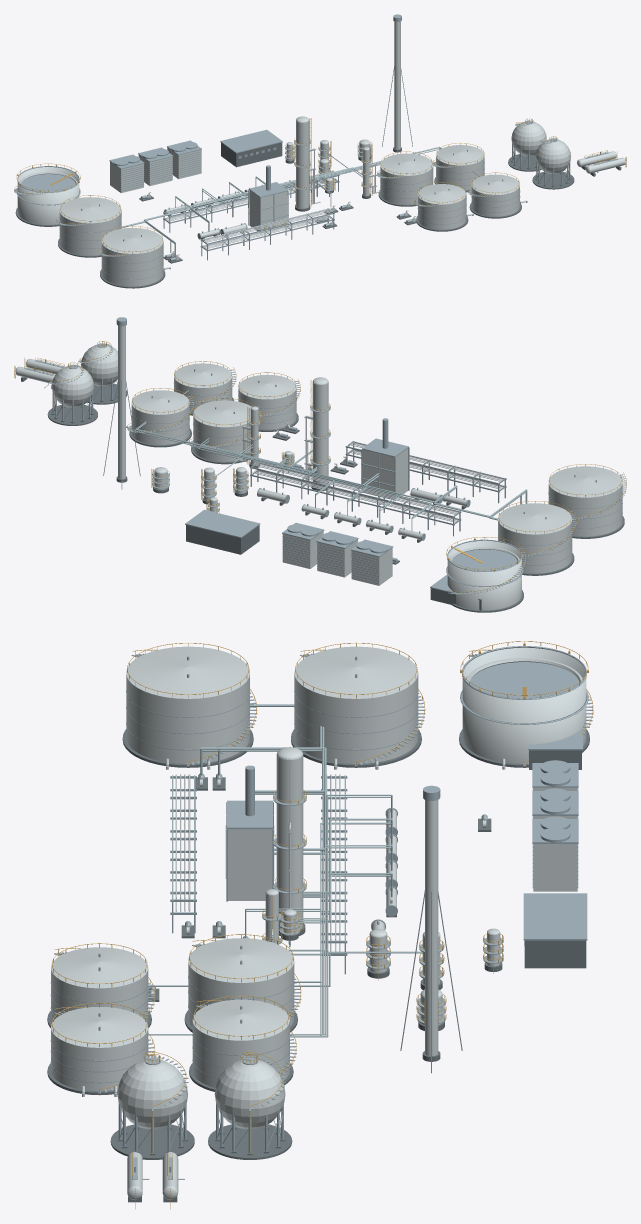
File: refinery.glb
3 views of the same model, one above another, from view 1: azimuth 30°, elevation 25°; view 2: azimuth 150°, elevation 25°; view 3: azimuth 270°, elevation 25° (orthographic). The views are drawn at different scales.
Visible parts, largest first — view 1: TK-101_geometry, TK-103_geometry, TK-102_geometry, TK-301_geometry, TK-302_geometry, TK-304_geometry, TK-303_geometry, F-201_geometry, SP-501_geometry, B-401_geometry, T-201_geometry, SP-502_geometry (+12 smaller); view 2: TK-103_geometry, TK-101_geometry, TK-102_geometry, TK-301_geometry, TK-303_geometry, TK-302_geometry, F-201_geometry, SP-502_geometry, B-401_geometry, TK-304_geometry, T-201_geometry, SP-501_geometry (+18 smaller); view 3: TK-101_geometry, TK-102_geometry, TK-103_geometry, TK-304_geometry, TK-301_geometry, TK-303_geometry, SP-502_geometry, SP-501_geometry, TK-302_geometry, F-201_geometry, B-401_geometry, T-201_geometry (+12 smaller).
Part boxes in pixels (x1,y1,x2,y2): TK-101_geometry: [98, 226, 170, 288]; TK-103_geometry: [14, 163, 80, 226]; TK-102_geometry: [56, 195, 121, 257]; TK-301_geometry: [376, 151, 433, 206]; TK-302_geometry: [414, 182, 473, 231]; TK-304_geometry: [468, 172, 527, 218]; TK-303_geometry: [433, 143, 489, 192]; F-201_geometry: [248, 165, 288, 233]; SP-501_geometry: [532, 136, 574, 189]; B-401_geometry: [220, 129, 282, 167]; T-201_geometry: [294, 116, 320, 211]; SP-502_geometry: [508, 118, 546, 171]; TK-103_geometry: [446, 537, 525, 612]; TK-101_geometry: [548, 464, 626, 538]; TK-102_geometry: [498, 501, 576, 575]; TK-301_geometry: [184, 398, 260, 464]; TK-303_geometry: [126, 388, 193, 447]; TK-302_geometry: [238, 372, 300, 431]; F-201_geometry: [361, 418, 409, 500]; SP-502_geometry: [47, 362, 97, 425]; B-401_geometry: [185, 509, 260, 554]; TK-304_geometry: [173, 361, 236, 415]; T-201_geometry: [304, 377, 330, 491]; SP-501_geometry: [78, 341, 127, 404]; TK-101_geometry: [122, 642, 257, 769]; TK-102_geometry: [291, 642, 425, 769]; TK-103_geometry: [459, 641, 593, 769]; TK-304_geometry: [47, 1003, 155, 1096]; TK-301_geometry: [184, 934, 301, 1032]; TK-303_geometry: [189, 995, 296, 1091]; SP-502_geometry: [208, 1052, 292, 1159]; SP-501_geometry: [110, 1052, 194, 1159]; TK-302_geometry: [47, 943, 155, 1027]; F-201_geometry: [225, 765, 274, 901]; B-401_geometry: [523, 893, 587, 968]; T-201_geometry: [273, 747, 306, 944].
Bounding box in the file's own units: 267 × 67.04 × 123.
